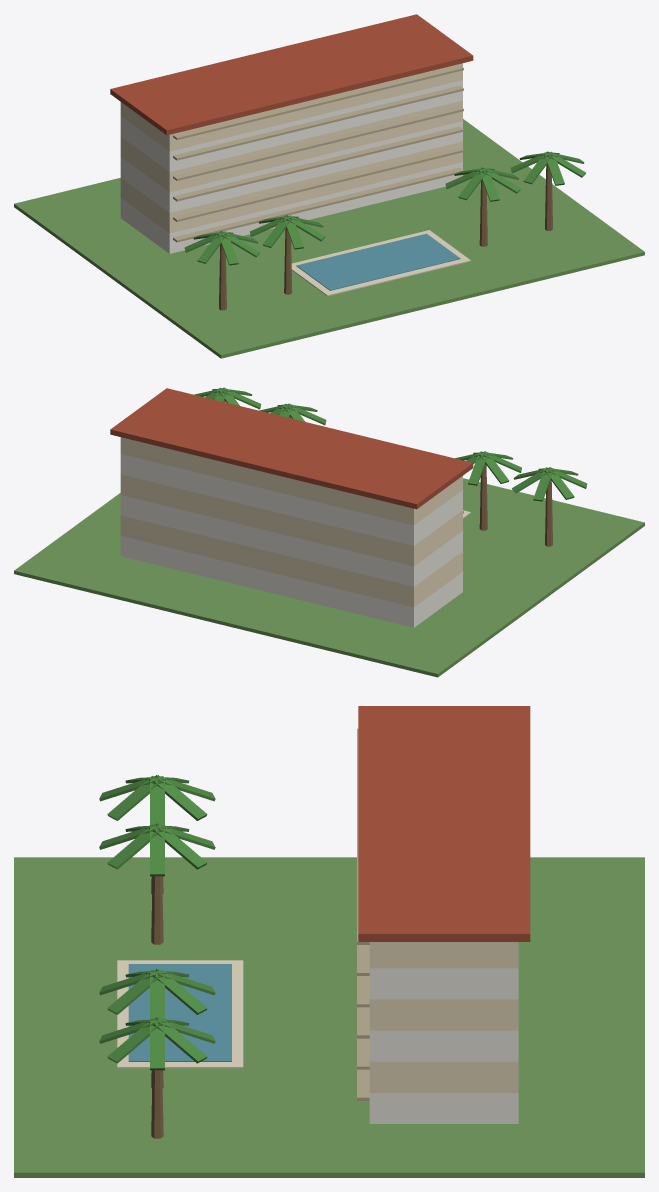
File: hotel.glb
3 views of the same model, one above another, from view 1: azimuth 30°, elevation 25°; view 2: azimuth 150°, elevation 25°; view 3: azimuth 270°, elevation 25° (orthographic). The views are drawn at different scales.
Parts seen in each view (by area): view 1: hotel_grass, hotel_roof_red, hotel_white, hotel_cream, hotel_stone_dark, hotel_leaf, hotel_water, hotel_trunk, hotel_stone; view 2: hotel_grass, hotel_white, hotel_cream, hotel_roof_red, hotel_leaf, hotel_trunk; view 3: hotel_grass, hotel_roof_red, hotel_white, hotel_cream, hotel_leaf, hotel_water, hotel_stone, hotel_stone_dark, hotel_trunk.
Boxes of the visible parts, box(x1,y1,x2,y2) form: hotel_grass: box(14, 119, 644, 358); hotel_roof_red: box(110, 14, 473, 135); hotel_white: box(120, 80, 462, 253); hotel_cream: box(120, 63, 462, 233); hotel_stone_dark: box(173, 65, 463, 242); hotel_leaf: box(184, 151, 585, 265); hotel_water: box(296, 233, 460, 290); hotel_trunk: box(219, 164, 552, 310); hotel_stone: box(291, 230, 470, 296); hotel_grass: box(14, 478, 644, 677); hotel_white: box(120, 454, 462, 627); hotel_cream: box(120, 437, 462, 607); hotel_roof_red: box(110, 388, 473, 509); hotel_leaf: box(194, 387, 587, 501); hotel_trunk: box(224, 400, 552, 546); hotel_grass: box(14, 857, 644, 1177); hotel_roof_red: box(358, 706, 530, 941); hotel_white: box(369, 968, 518, 1123); hotel_cream: box(369, 942, 518, 1092); hotel_leaf: box(99, 775, 215, 1070); hotel_water: box(128, 964, 231, 1061); hotel_stone: box(117, 960, 243, 1068); hotel_stone_dark: box(357, 728, 369, 1100); hotel_trunk: box(151, 876, 163, 1138).
Bounding box in the file's own units: 130 × 38.5 × 110.
